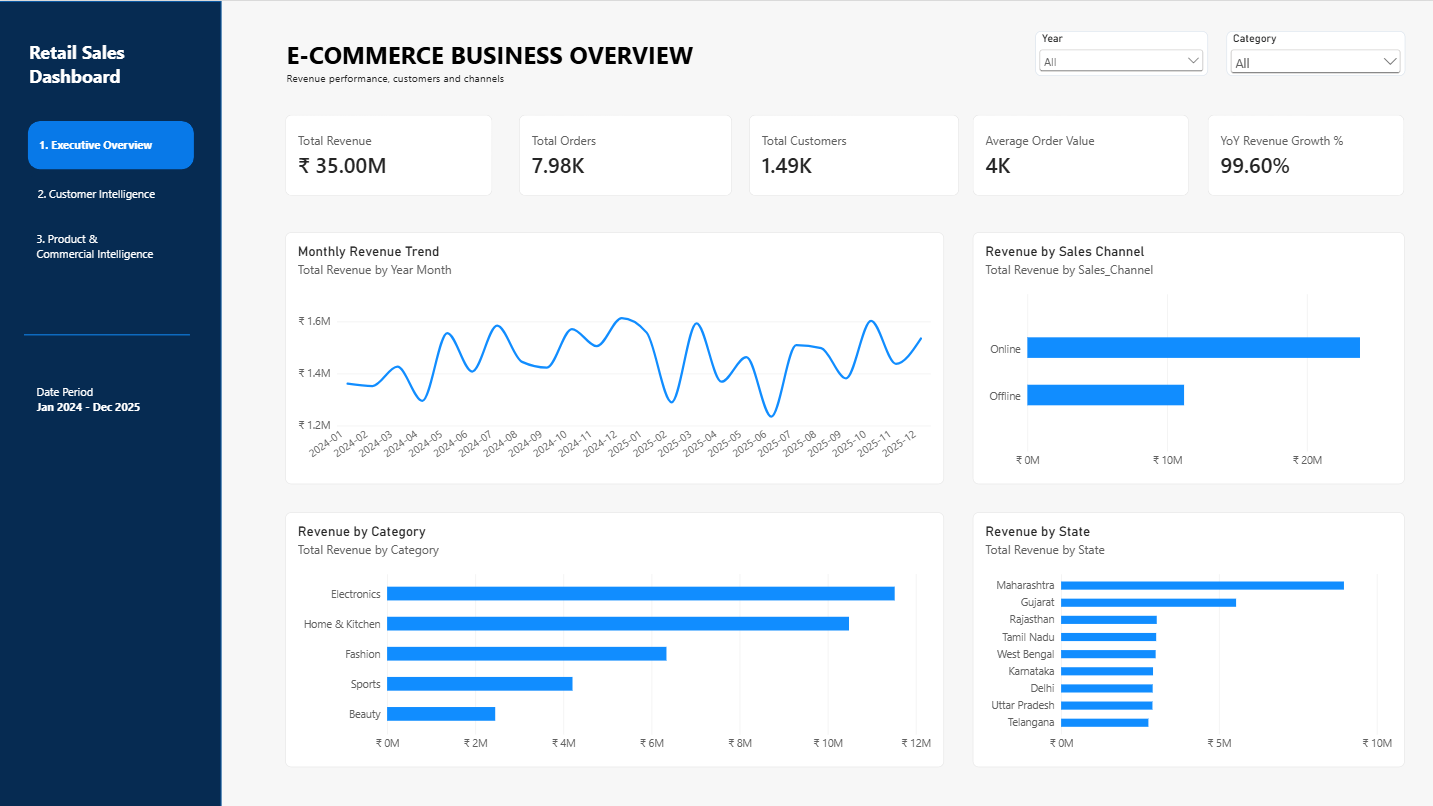

The dashboard page shown, as its layout file describes it:
{"tool":"powerbi","page":{"name":"Executive Overview","canvas":[1920,1080],"ordinal":0},"visuals":[{"type":"shape","box":[0,0,296.5,1077.9],"z":0,"group":"g6"},{"type":"cardVisual","title":"Total Revenue","fields":{"Data":["ecommerce_analytics ecommerce_sales_clean.Total Revenue"]},"box":[382,152,276,108],"z":1000},{"type":"cardVisual","title":"Total Orders","fields":{"Data":["ecommerce_analytics ecommerce_sales_clean.Total Orders"]},"box":[694,152,284,108],"z":2000},{"type":"cardVisual","title":"Total Customers","fields":{"Data":["DateTable.Total Customers"]},"box":[1000,152,280,108],"z":3000},{"type":"lineChart","title":"Monthly Revenue Trend","fields":{"Category":["DateTable.Year Month"],"Y":["ecommerce_analytics ecommerce_sales_clean.Total Revenue"]},"box":[382,308,878,336],"z":4000},{"type":"clusteredBarChart","title":"Revenue by Category","fields":{"Category":["ecommerce_analytics ecommerce_sales_clean.Category"],"Y":["ecommerce_analytics ecommerce_sales_clean.Total Revenue"]},"box":[382,682,878,340],"z":5000},{"type":"clusteredBarChart","title":"Revenue by State","fields":{"Category":["ecommerce_analytics ecommerce_sales_clean.State"],"Y":["ecommerce_analytics ecommerce_sales_clean.Total Revenue"]},"box":[1298,682,576,340],"z":6000},{"type":"clusteredBarChart","title":"Revenue by Sales Channel","fields":{"Category":["ecommerce_analytics ecommerce_sales_clean.Sales_Channel"],"Y":["ecommerce_analytics ecommerce_sales_clean.Total Revenue"]},"box":[1298,308,576,336],"z":7000},{"type":"slicer","fields":{"Values":["ecommerce_analytics ecommerce_sales_clean.Category"]},"box":[1636,40,238,60],"z":8000},{"type":"cardVisual","title":"Average order value","fields":{"Data":["DateTable.Average Order Value"]},"box":[1298,152,288,108],"z":9000},{"type":"cardVisual","title":"YoY Revenue Growth %","fields":{"Data":["DateTable.YoY Revenue Growth %"]},"box":[1612,152,262,108],"z":10000},{"type":"slicer","fields":{"Values":["DateTable.Year"]},"box":[1382,40,230,60],"z":11000},{"type":"textbox","box":[382.5,50,710,100],"z":12000},{"type":"group","id":"g1","title":"Group 1","box":[37.7,160.5,222.3,64.5],"z":13000,"group":"g6"},{"type":"shape","box":[12.2,48.8,277.3,101.2],"z":14000,"group":"g7"},{"type":"shape","box":[37.7,160.5,221.5,64.5],"z":14000,"group":"g1"},{"type":"group","id":"g2","title":"Group 2","box":[33.5,286.9,221.5,85.3],"z":14000,"group":"g6"},{"type":"textbox","box":[40.5,52.8,206.9,73.8],"z":15000,"group":"g7"},{"type":"textbox","box":[52,182,208,23],"z":15000,"group":"g1"},{"type":"group","id":"g3","title":"Group 3","box":[37.3,230.9,221.8,58.2],"z":15000,"group":"g6"},{"type":"group","id":"g4","title":"Group 1","box":[12.2,48.8,277.3,101.2],"z":16000,"group":"g6"},{"type":"shape","box":[37.3,230.9,221.8,58.2],"z":16000,"group":"g8"},{"type":"shape","box":[33.5,286.9,221.5,85.3],"z":17000,"group":"g2"},{"type":"group","id":"g5","title":"Group 2","box":[37.5,498.8,221.2,86.2],"z":17000,"group":"g6"},{"type":"shape","box":[37.5,498.8,221.5,85.3],"z":17000,"group":"g5"},{"type":"textbox","box":[52.1,246.7,164.8,26.6],"z":18000,"group":"g8"},{"type":"textbox","box":[49.4,307.1,188.3,55],"z":18001,"group":"g2"},{"type":"textbox","box":[49.3,511.2,167.7,62.3],"z":18001,"group":"g5"},{"type":"shape","box":[33.8,435,221.2,20],"z":19001,"group":"g6"},{"type":"group","id":"g6","title":"Group 6","box":[0,0,296.5,1077.9],"z":19002},{"type":"group","id":"g7","title":"Group 5","box":[12.2,48.8,277.3,101.2],"z":19002,"group":"g4"},{"type":"group","id":"g8","title":"Group 4","box":[37.3,230.9,221.8,58.2],"z":19002,"group":"g3"}]}

Visuals, with their boxes on the page's 1920x1080 design canvas (x1, y1, x2, y2). These are canvas units, not pixel positions in the 1433x806 screenshot, which may show the page scaled, cropped or inside an application window:
shape: detection(0, 0, 296, 1078)
"Total Revenue" cardVisual: detection(382, 152, 658, 260)
"Total Orders" cardVisual: detection(694, 152, 978, 260)
"Total Customers" cardVisual: detection(1000, 152, 1280, 260)
"Monthly Revenue Trend" lineChart: detection(382, 308, 1260, 644)
"Revenue by Category" clusteredBarChart: detection(382, 682, 1260, 1022)
"Revenue by State" clusteredBarChart: detection(1298, 682, 1874, 1022)
"Revenue by Sales Channel" clusteredBarChart: detection(1298, 308, 1874, 644)
slicer - ecommerce_analytics ecommerce_sales_clean.Category: detection(1636, 40, 1874, 100)
"Average order value" cardVisual: detection(1298, 152, 1586, 260)
"YoY Revenue Growth %" cardVisual: detection(1612, 152, 1874, 260)
slicer - DateTable.Year: detection(1382, 40, 1612, 100)
textbox: detection(382, 50, 1092, 150)
"Group 1" group: detection(38, 160, 260, 225)
shape: detection(12, 49, 290, 150)
shape: detection(38, 160, 259, 225)
"Group 2" group: detection(34, 287, 255, 372)
textbox: detection(40, 53, 247, 127)
textbox: detection(52, 182, 260, 205)
"Group 3" group: detection(37, 231, 259, 289)
"Group 1" group: detection(12, 49, 290, 150)
shape: detection(37, 231, 259, 289)
shape: detection(34, 287, 255, 372)
"Group 2" group: detection(38, 499, 259, 585)
shape: detection(38, 499, 259, 584)
textbox: detection(52, 247, 217, 273)
textbox: detection(49, 307, 238, 362)
textbox: detection(49, 511, 217, 574)
shape: detection(34, 435, 255, 455)
"Group 6" group: detection(0, 0, 296, 1078)
"Group 5" group: detection(12, 49, 290, 150)
"Group 4" group: detection(37, 231, 259, 289)
